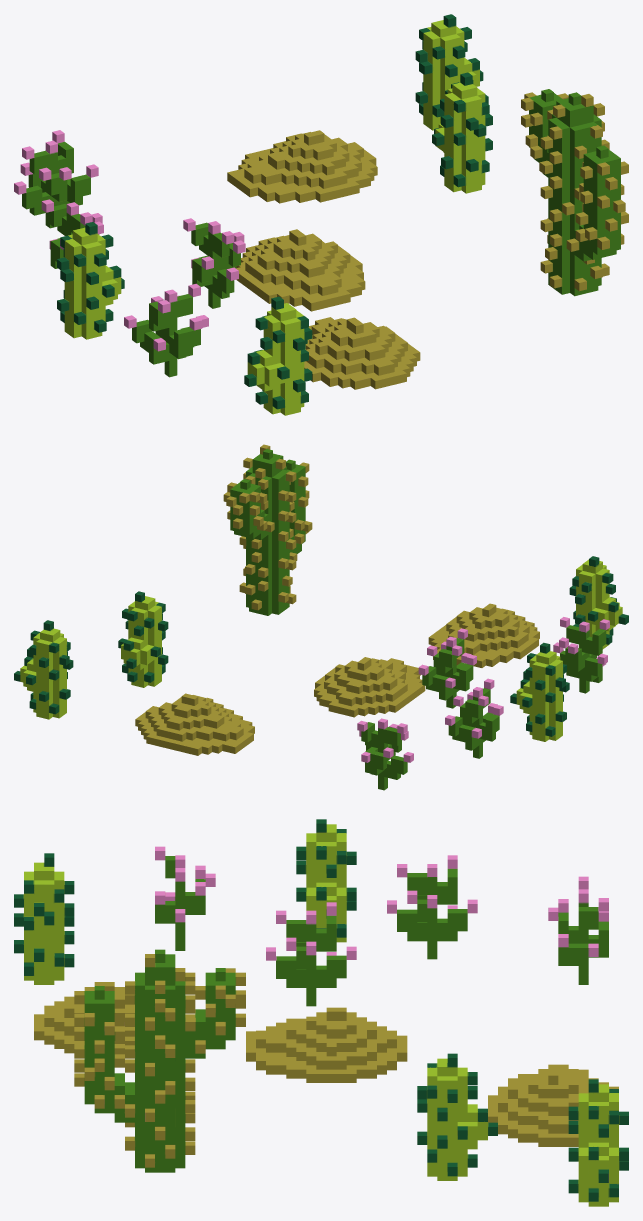
File: cacti_1_overtile.glb
3 views of the same model, one above another, from view 1: azimuth 30°, elevation 25°; view 2: azimuth 150°, elevation 25°; view 3: azimuth 270°, elevation 25° (orthographic). The views are drawn at different scales.
Visible parts, largest first — view 1: cacti_1_overtile; view 2: cacti_1_overtile; view 3: cacti_1_overtile.
Boxes of the visible parts, bbox=[...] form: cacti_1_overtile: bbox=[14, 14, 628, 415]; cacti_1_overtile: bbox=[14, 444, 628, 790]; cacti_1_overtile: bbox=[14, 819, 628, 1206].
Size of the model in its own units: 6.9 by 2.3 by 6.1.
Materials: 1 (1 with a texture image).
